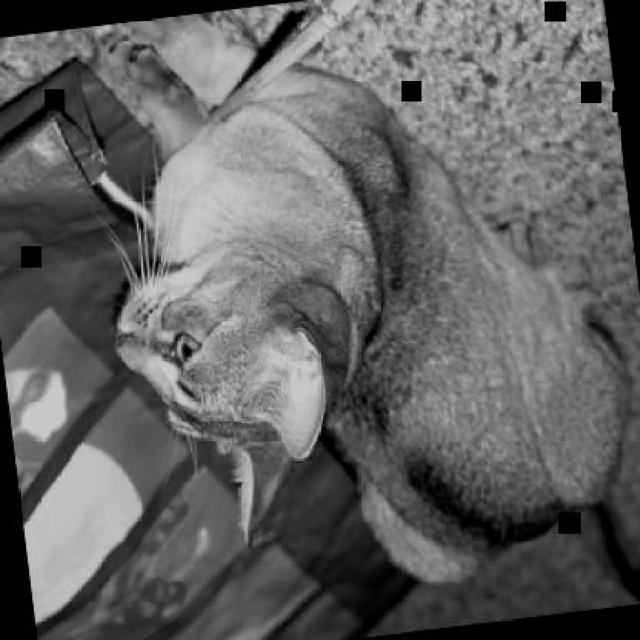cat: (75, 0, 638, 638)
